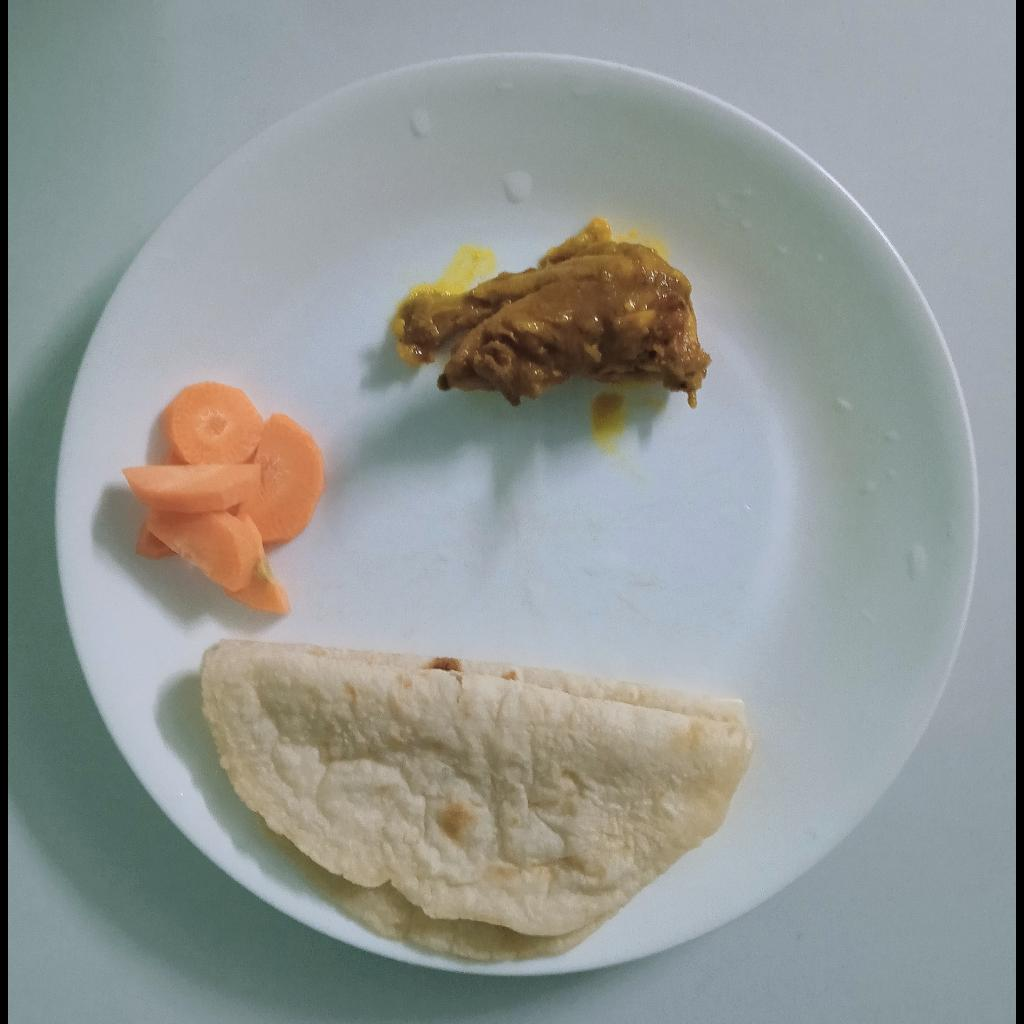carrot: (120, 380, 328, 617)
chicken: (391, 215, 712, 411)
ruti: (195, 638, 758, 962)
